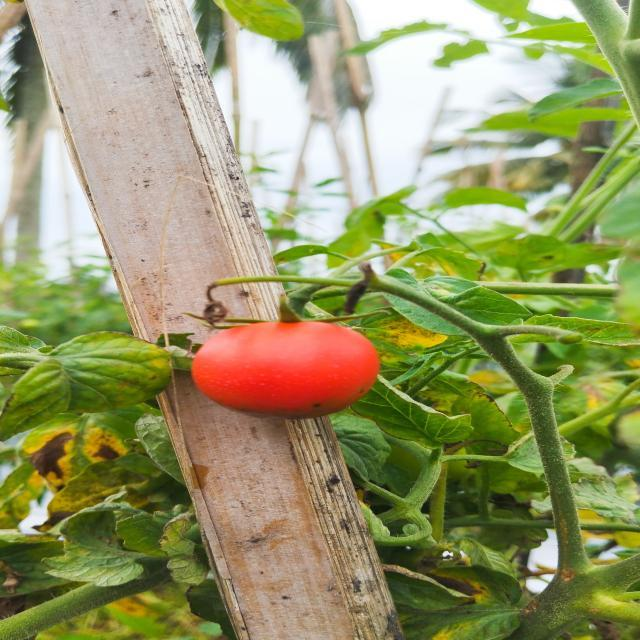Masak: (165, 296, 387, 426)
